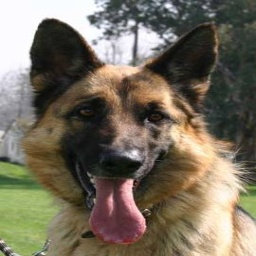dog: (20, 15, 256, 256)
